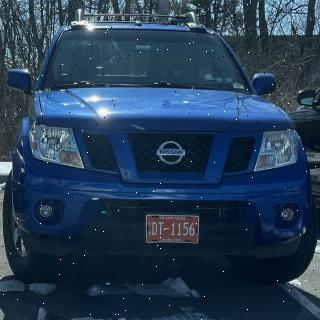license: (147, 215, 201, 245)
